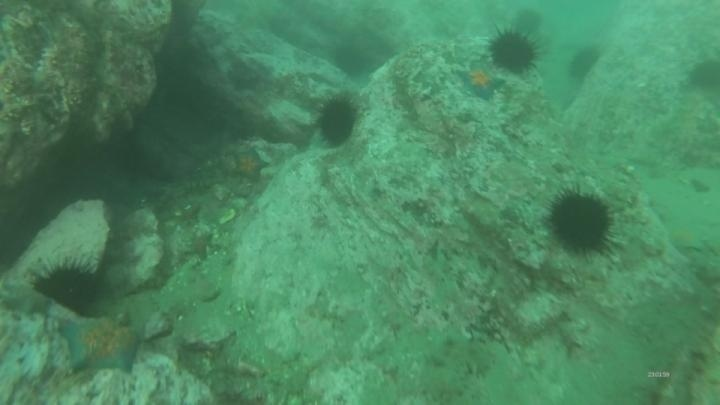echinus: (544, 186, 618, 258), (29, 256, 104, 315), (486, 27, 541, 76), (314, 94, 361, 148), (330, 42, 371, 79), (566, 44, 603, 83), (687, 56, 720, 93), (511, 7, 545, 35)
holothurian: (426, 331, 505, 370), (398, 363, 470, 400)
starfish: (58, 313, 145, 376), (1, 278, 53, 319), (457, 61, 505, 102), (228, 145, 271, 183), (665, 221, 708, 254)
